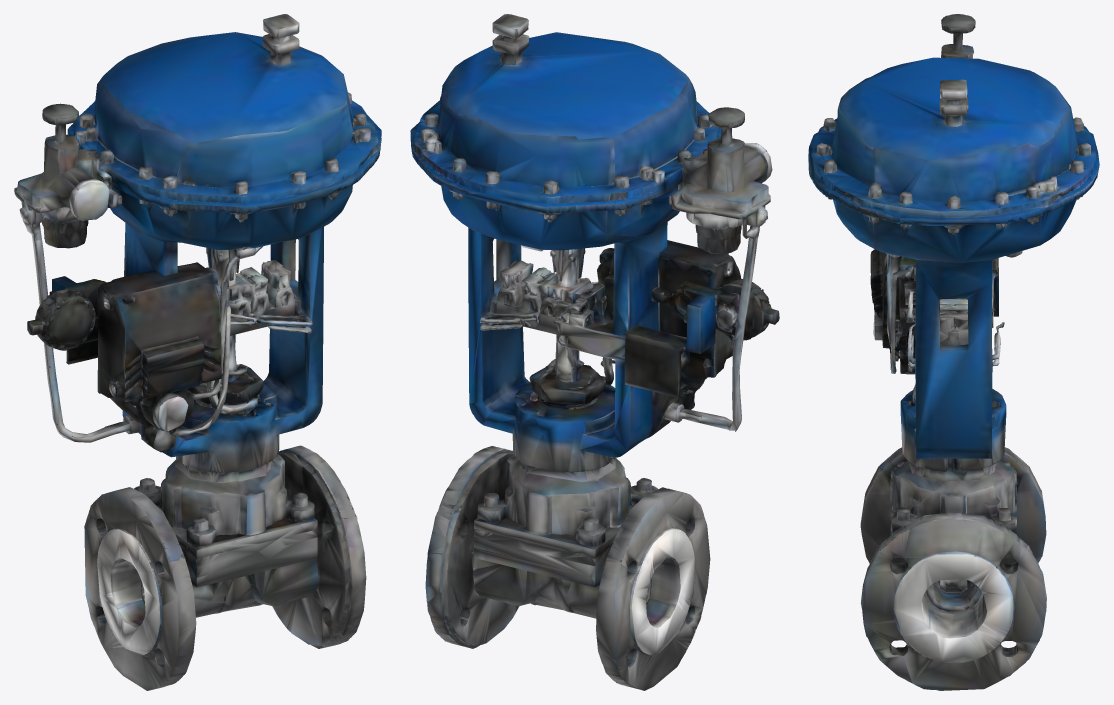
Rendered from valve1_low.glb.
The picture shows the model from 3 angles, left to right: view 1: azimuth 30°, elevation 25°; view 2: azimuth 150°, elevation 25°; view 3: azimuth 270°, elevation 25°; orthographic projection. The views are drawn at different scales.
Size of the model in its own units: 1.07 by 1.9 by 0.8529.
1 material, 1 textured.
